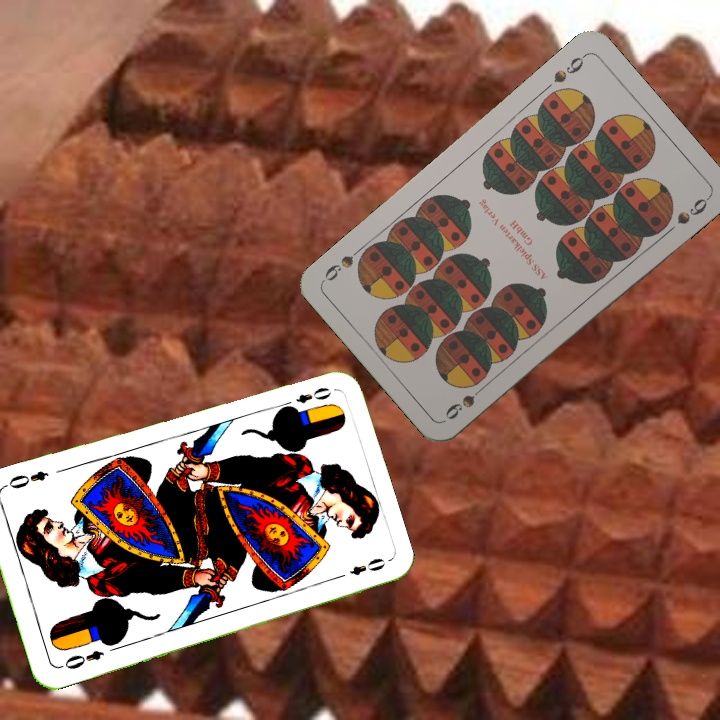EO: (278, 383, 334, 412), (55, 645, 107, 672)
S9: (441, 379, 490, 422), (549, 50, 589, 86)
